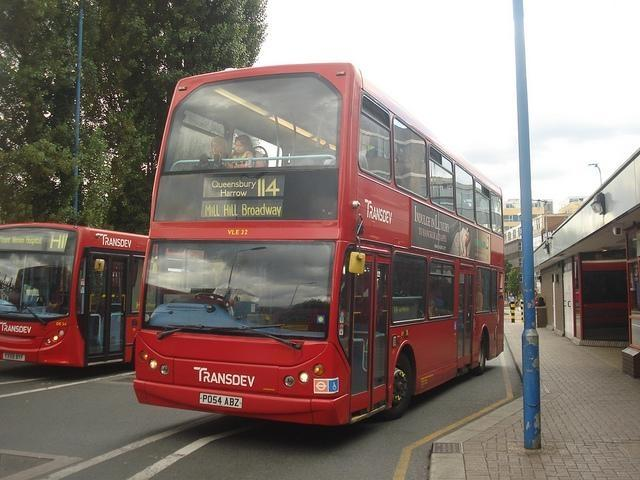bus: (132, 61, 507, 426), (1, 222, 146, 372)
